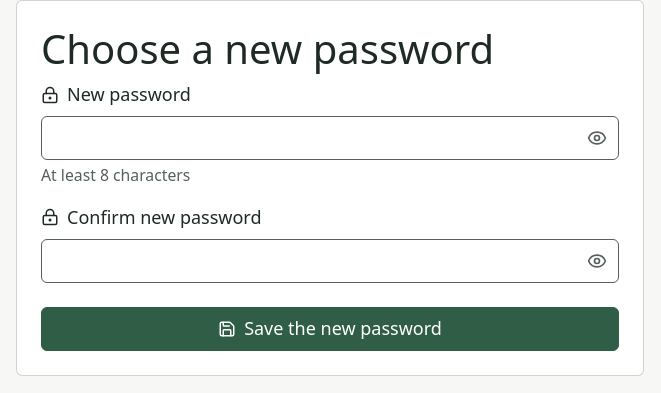
Test: ResetPasswordPage › success › says the password is changed and links to the login; the form is gone
The width and height of the screenshot is (661, 393).
Type "my-own-secret-pw" into the password field labelled "New password" at (330, 138), box [41, 116, 619, 160]
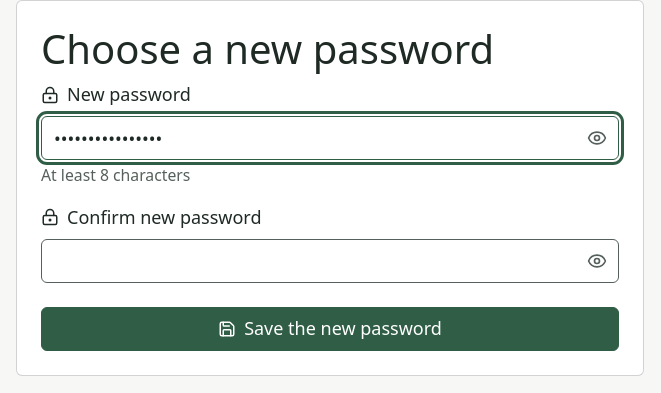
Type "my-own-secret-pw" into the password field labelled "Confirm new password" at (330, 261), box [41, 239, 619, 283]
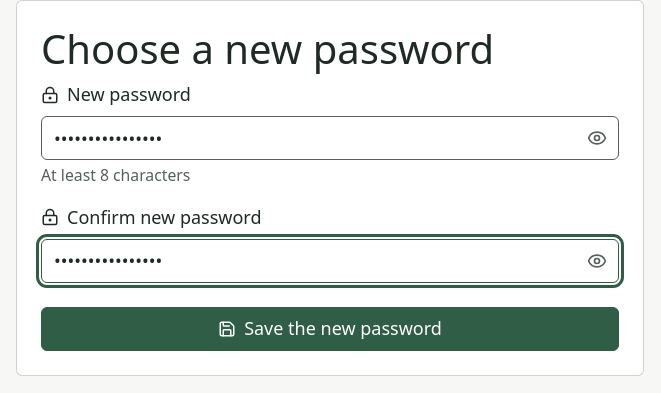
Click the button "Save the new password" at (330, 329), box [41, 307, 619, 351]
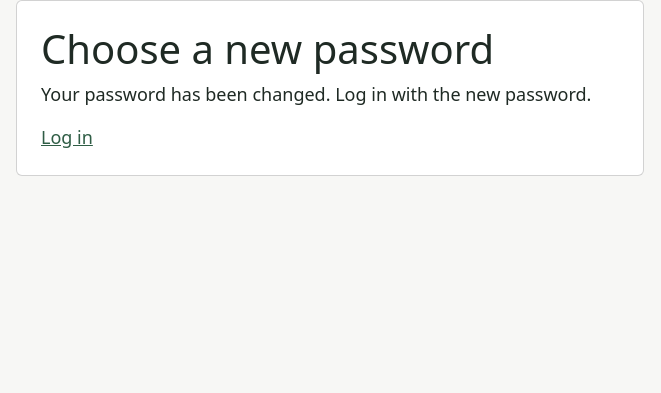
Now the message shows "password has been changed", box [41, 82, 591, 106]
Now the label labelled "Confirm new password" is gone
Now the button "Save" is gone
